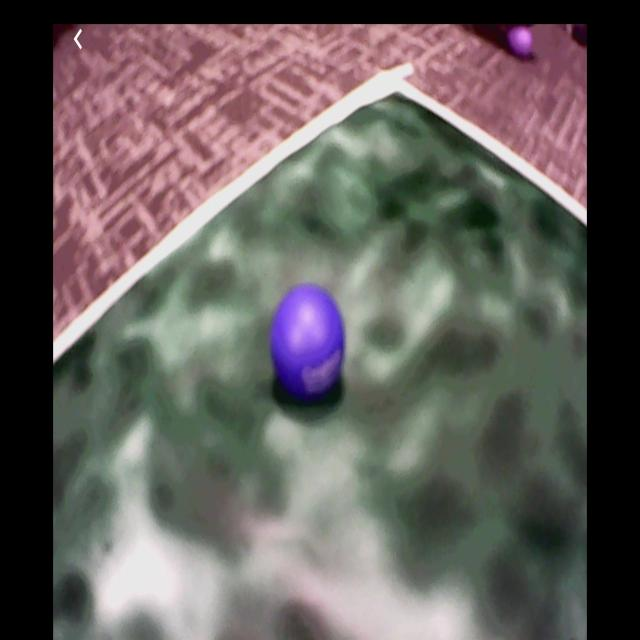ball: (270, 282, 344, 397), (508, 27, 532, 62)
